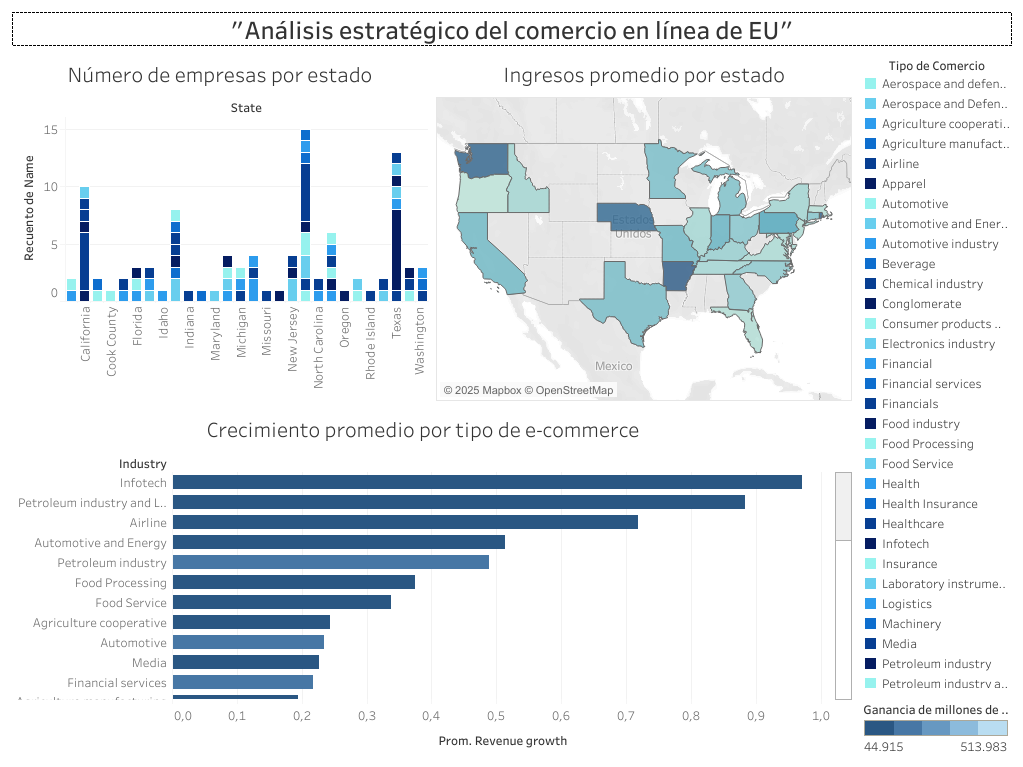

This screenshot's page, from the dashboard's own definition file:
{"tool":"tableau","page":{"name":"Dashboard 1","canvas":[1024,768],"ordinal":0},"visuals":[{"type":"title","box":[8,8,1008,42]},{"type":"worksheet","title":"Número de empresas por estado","mark":"Automatic","rows":["Name"],"cols":["Calculation_1055545332985884"],"box":[8,50,424,355]},{"type":"worksheet","title":"Mapa","mark":"Automatic","box":[432,50,424,355]},{"type":"legend","title":"Número de empresas por estado","param":"[federated.0ijx1nx1ndlgpm0zternu1eskj75].[none:Industry:nk]","box":[856,50,160,642]},{"type":"worksheet","title":"Crecimiento por comercio","mark":"Automatic","rows":["Industry"],"cols":["Revenue growth"],"box":[8,405,848,355]},{"type":"legend","title":"Crecimiento por comercio","param":"[federated.0ijx1nx1ndlgpm0zternu1eskj75].[avg:Revenue (USD millions):qk]","box":[856,692,160,68]}]}

Visuals, with their boxes in screenshot pixels (x1, y1, x2, y2), scaled from the page's 1024x768 canvas onto the 1023x767 screenshot:
title: (left=8, top=8, right=1015, bottom=50)
"Número de empresas por estado" worksheet: (left=8, top=50, right=432, bottom=404)
"Mapa" worksheet: (left=432, top=50, right=855, bottom=404)
"Número de empresas por estado" legend: (left=855, top=50, right=1015, bottom=691)
"Crecimiento por comercio" worksheet: (left=8, top=404, right=855, bottom=759)
"Crecimiento por comercio" legend: (left=855, top=691, right=1015, bottom=759)
